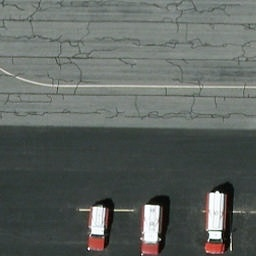car: (88, 206, 109, 253)
truck: (206, 195, 231, 254)
